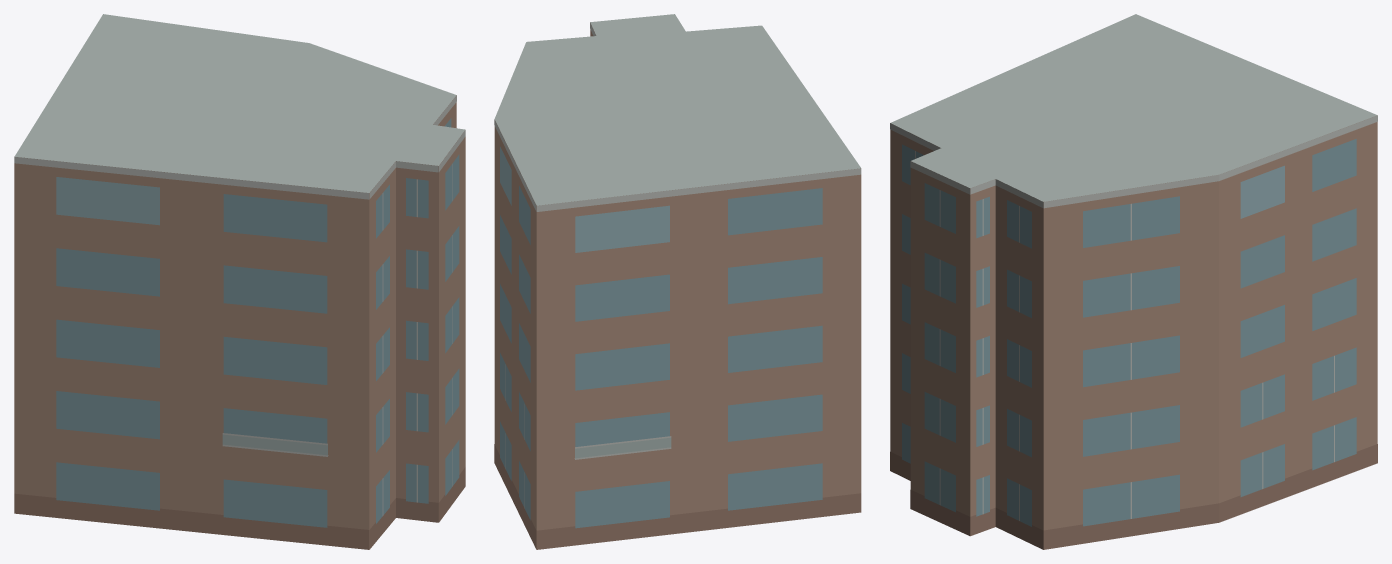
Rendered from survey-upis-32527560.glb.
3 views of the same model, side by side, from view 1: azimuth 30°, elevation 25°; view 2: azimuth 150°, elevation 25°; view 3: azimuth 270°, elevation 25° (orthographic). The views are drawn at different scales.
Parts seen in each view (by area): view 1: survey-upis-32527560.tmp; view 2: survey-upis-32527560.tmp; view 3: survey-upis-32527560.tmp.
Boxes of the visible parts, box(x1,y1,x2,y2) form: survey-upis-32527560.tmp: box(14, 14, 465, 549); survey-upis-32527560.tmp: box(494, 14, 861, 549); survey-upis-32527560.tmp: box(890, 14, 1377, 549).
Size of the model in its own units: 15.3 by 13.2 by 16.77.
